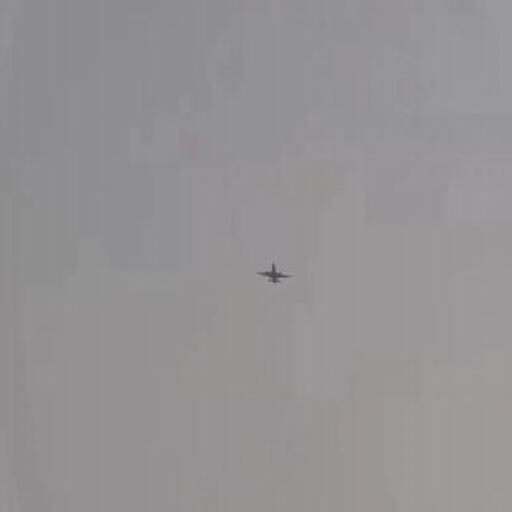aircraft: (256, 261, 293, 283)
